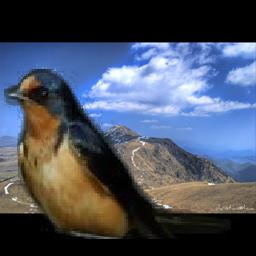Swallow: (5, 69, 232, 239)
